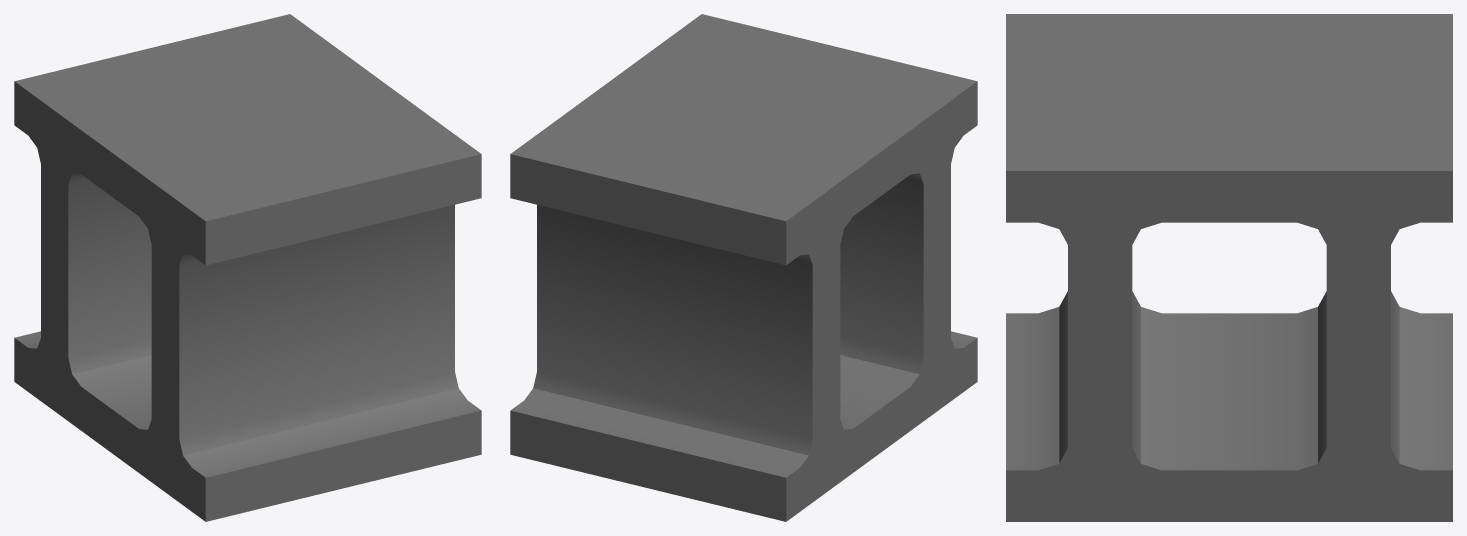
Rendered from SM_Concrete.fbx.
3 views of the same model, side by side, from view 1: azimuth 30°, elevation 25°; view 2: azimuth 150°, elevation 25°; view 3: azimuth 270°, elevation 25° (orthographic). The views are drawn at different scales.
Parts seen in each view (by area): view 1: Concrete; view 2: Concrete; view 3: Concrete.
Boxes of the visible parts, x1,y1,x2,y2 form: Concrete: [14, 14, 481, 521]; Concrete: [510, 14, 977, 521]; Concrete: [1006, 14, 1452, 521].
Bounding box in the file's own units: 29.43 × 30.66 × 35.37.
